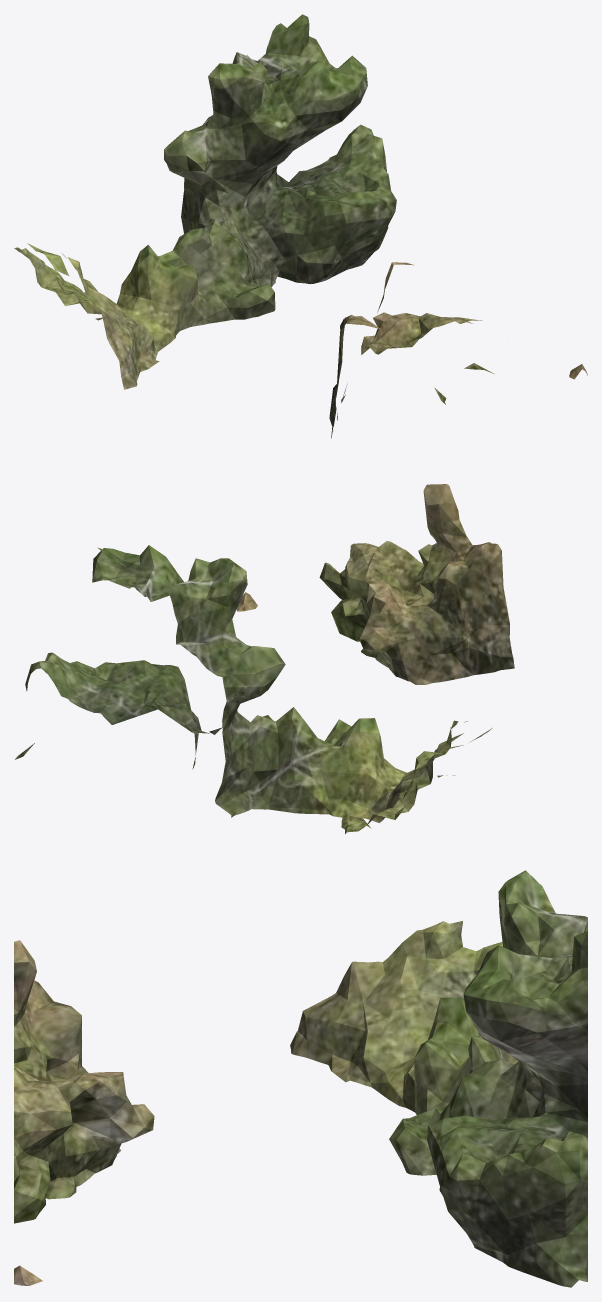
3 views of the same model, one above another, from view 1: azimuth 30°, elevation 25°; view 2: azimuth 150°, elevation 25°; view 3: azimuth 270°, elevation 25° (orthographic). The views are drawn at different scales.
Bounding box in the file's own units: 5.9 × 3.45 × 5.9.
Materials: 3 (3 with a texture image).
